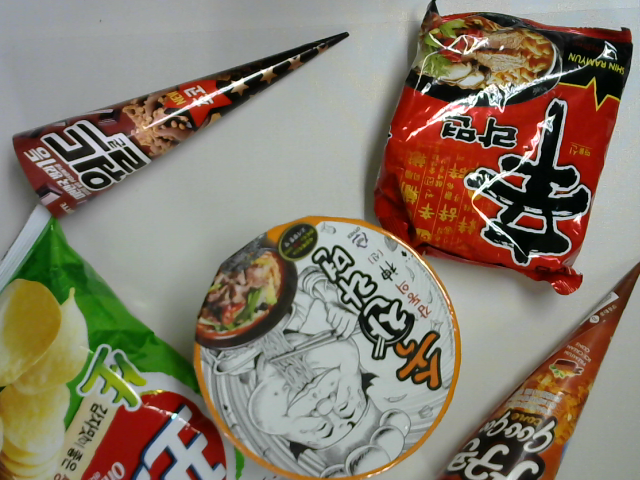GooGoo_Cone_CVS: (430, 257, 640, 478)
Hejangchan: (184, 214, 464, 471)
Pocachip_Onion: (1, 201, 287, 479)
Sinramen: (365, 1, 637, 297)
World_Cone_Choco: (10, 22, 360, 226)
